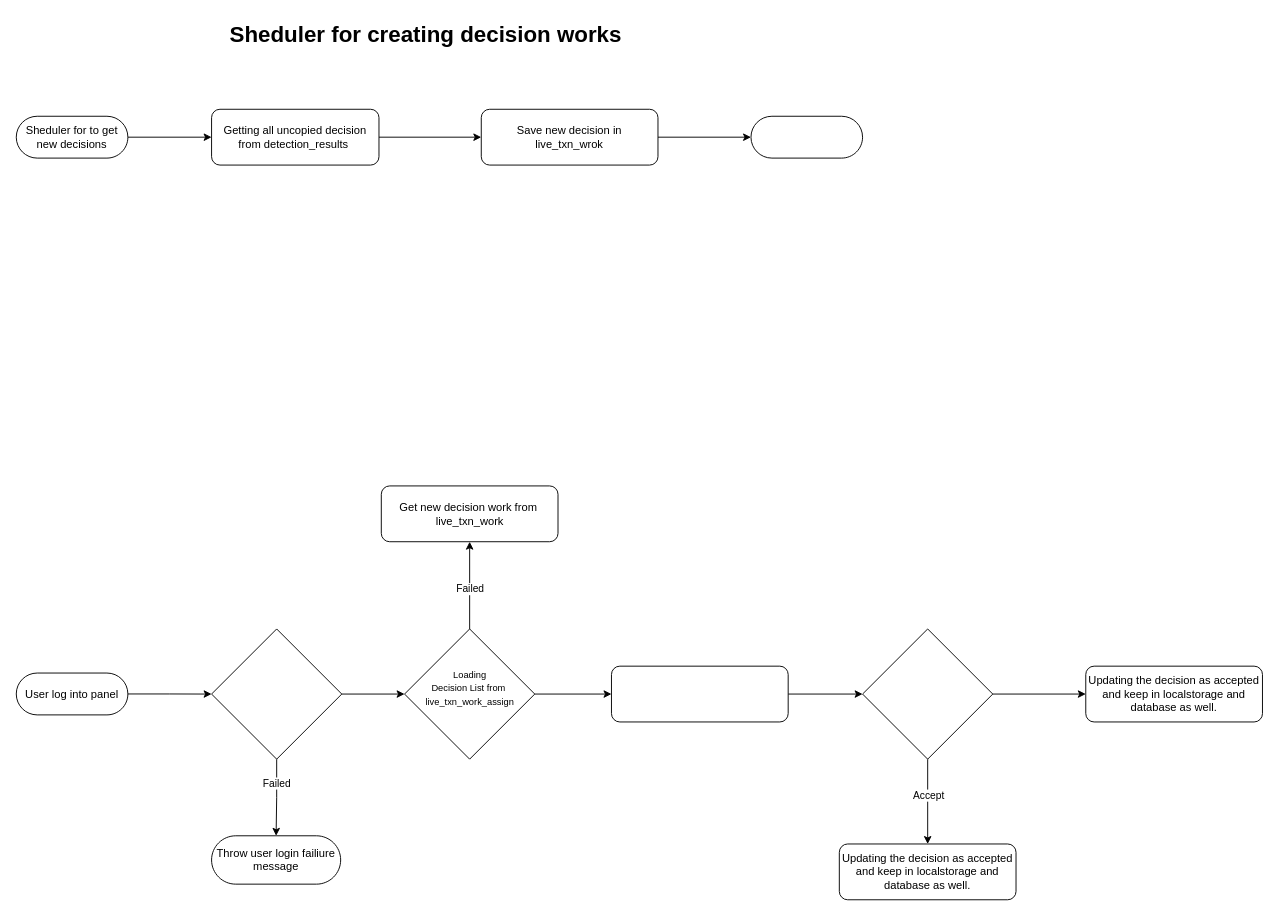
Image size: 1279x916. Some labels were removed from this diagram. Each missing label, with the centre of its shape:
"Checking Decision valid or not" belongs at (x=927, y=693).
"Listing all suggestions from store teams and product teams." belongs at (x=699, y=693).
"Process end" belongs at (x=806, y=136).
"Validting user roles with user_id" belongs at (x=276, y=693).
